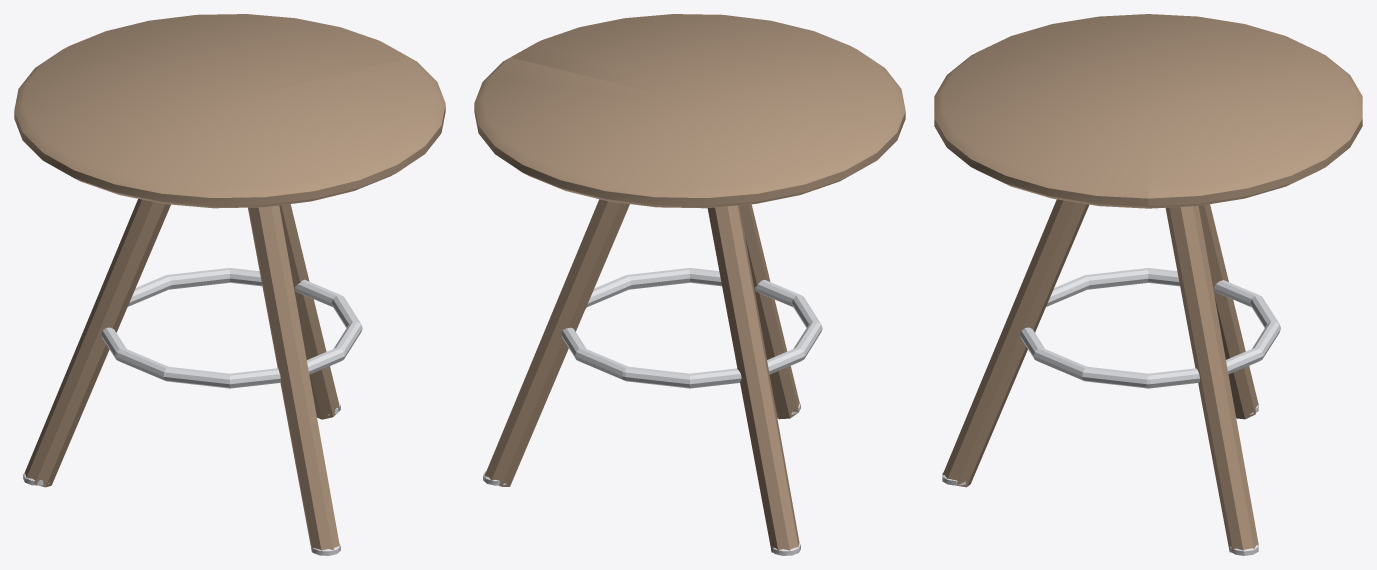
Rendered from hotel-and-resort-operations-side-table-round-4e5b49c8__25756.glb.
3 renders of one model, left to right at view 1: azimuth 30°, elevation 25°; view 2: azimuth 150°, elevation 25°; view 3: azimuth 270°, elevation 25°, orthographic.
Parts seen in each view (by area): view 1: side-table-round; view 2: side-table-round; view 3: side-table-round.
Part boxes in pixels (x1,y1,x2,y2): side-table-round: (14, 14, 445, 555); side-table-round: (474, 14, 905, 555); side-table-round: (934, 14, 1362, 555).
Bounding box in the file's own units: 0.5174 × 0.5064 × 0.5136.
